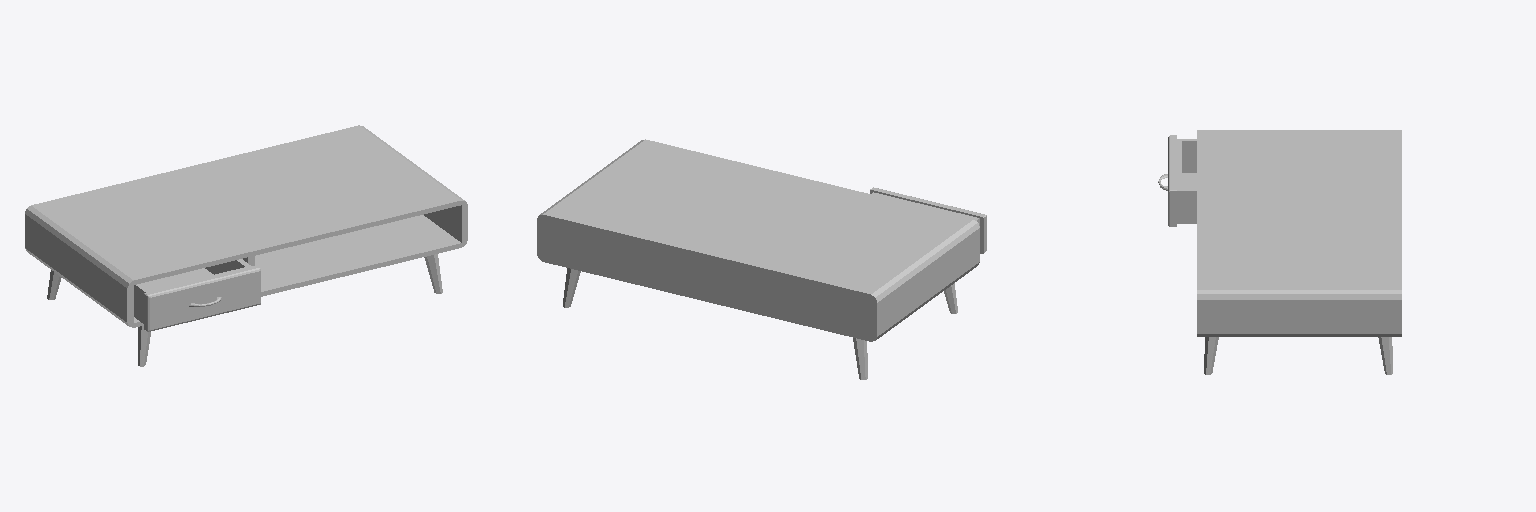
Rendered from end table.obj.
3 views of the same model, side by side, from view 1: azimuth 30°, elevation 25°; view 2: azimuth 150°, elevation 25°; view 3: azimuth 270°, elevation 25° (orthographic).
Bounding box in the file's own units: 8.17 × 2.11 × 5.06.